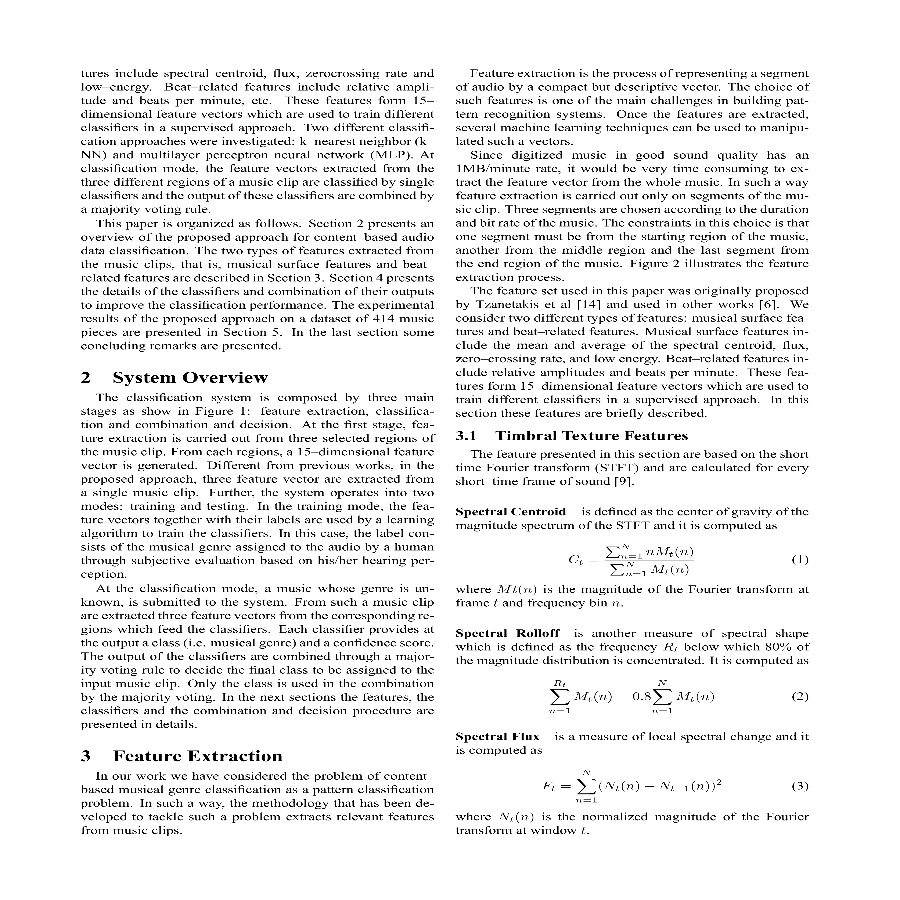eq: (547, 674, 720, 718), (542, 764, 725, 804), (565, 540, 706, 582)
